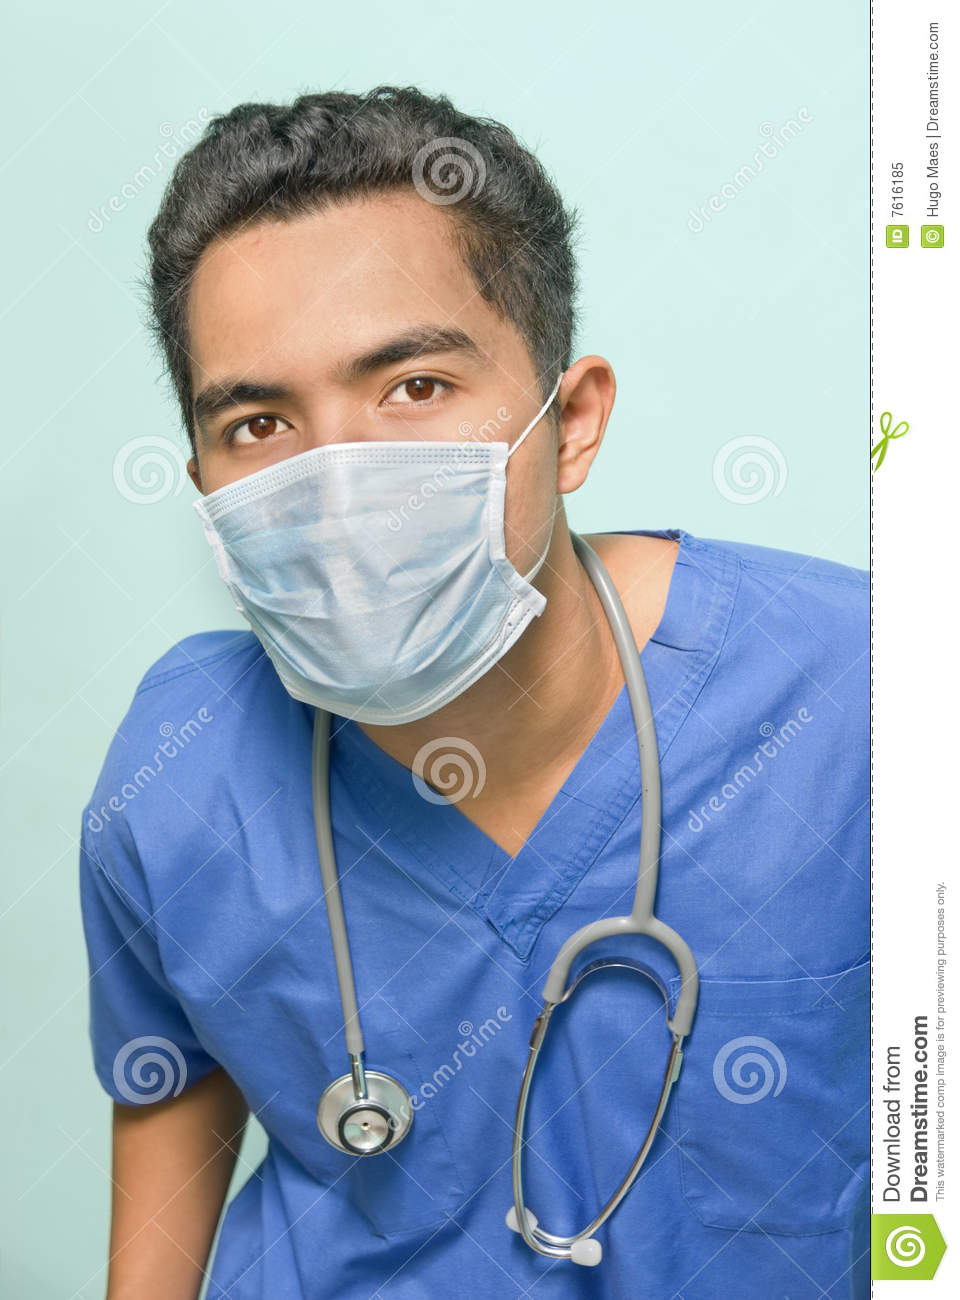mask: (178, 445, 542, 701)
